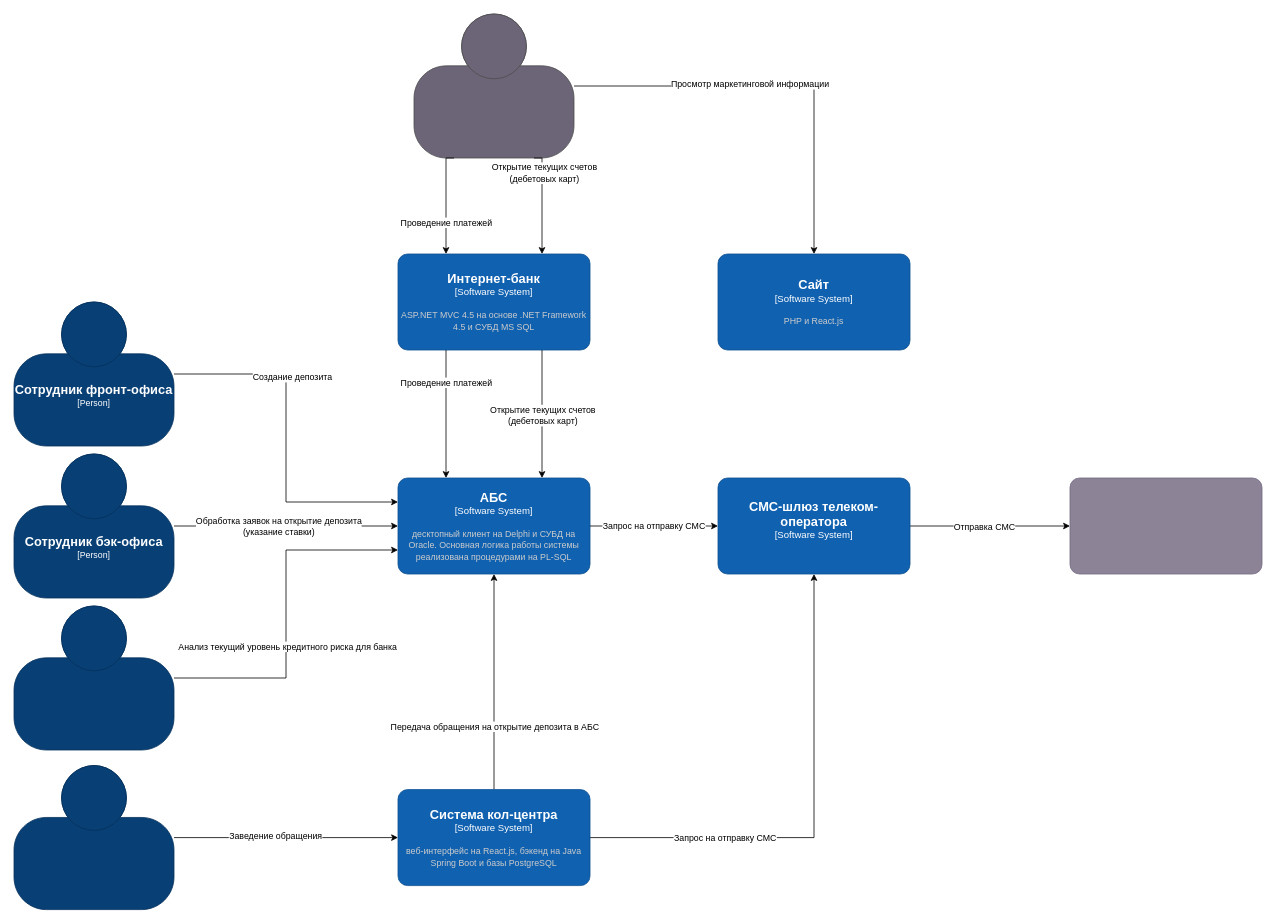
The diagram is 1276 pixels wide and 924 high, and some of its shapes have lost their labels. The shapes that lost their labels are listed below. From the top down, each one's centre as x and y in pixels, then its label:
At (493,85): "Клиент [Person]".
At (1165,525): "Телеком-оператор [Software System]".
At (93,677): "Сотрудник кредитования [Person]".
At (93,837): "Сотрудник call-центра [Person]".
